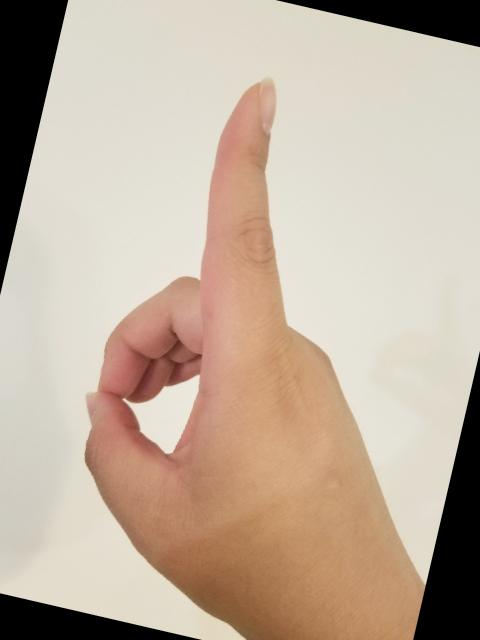D: (31, 47, 480, 640)
